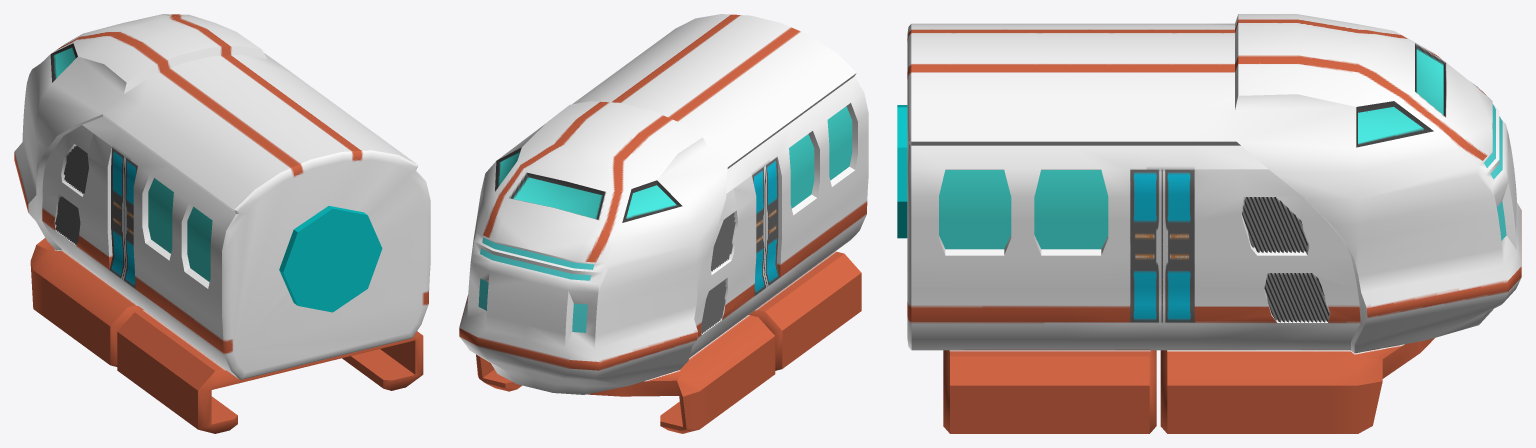
Rendered from Bullet2.fbx.
3 views of the same model, side by side, from view 1: azimuth 30°, elevation 25°; view 2: azimuth 150°, elevation 25°; view 3: azimuth 270°, elevation 25° (orthographic). The views are drawn at different scales.
Visible parts, largest first — view 1: _Passenger_train__Cube_166, Cylinder; view 2: _Passenger_train__Cube_166; view 3: _Passenger_train__Cube_166, Cylinder.
Boxes of the visible parts, box(x1,y1,x2,y2) form: _Passenger_train__Cube_166: box(14, 14, 430, 433); Cylinder: box(279, 206, 382, 312); _Passenger_train__Cube_166: box(459, 14, 868, 433); _Passenger_train__Cube_166: box(907, 14, 1521, 433); Cylinder: box(897, 105, 907, 238).
Bounding box in the file's own units: 94.98 × 109 × 181.
Materials: 3 (2 with a texture image).
